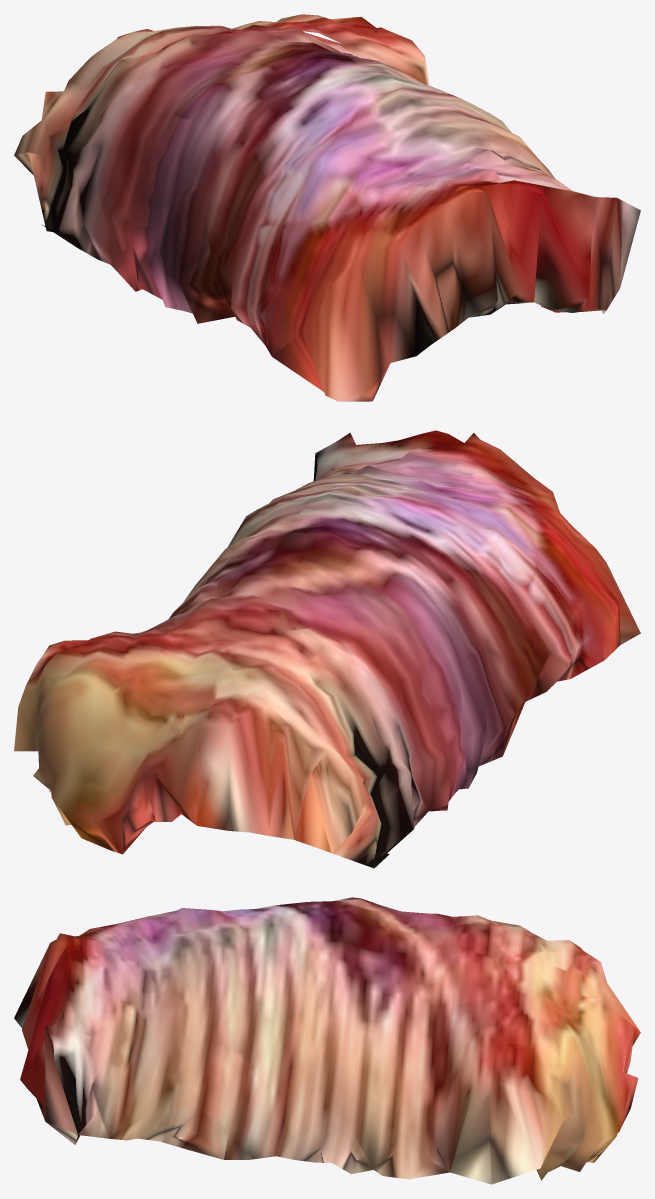
Rendered from rib.glb.
3 views of the same model, one above another, from view 1: azimuth 30°, elevation 25°; view 2: azimuth 150°, elevation 25°; view 3: azimuth 270°, elevation 25° (orthographic). The views are drawn at different scales.
Visible parts, largest first — view 1: sheep; view 2: sheep; view 3: sheep.
Boxes of the visible parts, <box> form: sheep: <box>14,14,640,401</box>; sheep: <box>14,430,640,868</box>; sheep: <box>14,897,640,1184</box>.
Size of the model in its own units: 16.51 by 9.79 by 27.01.
1 material, 1 textured.
